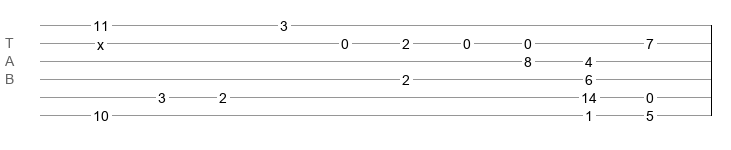0: (341, 36, 349, 46), (463, 36, 471, 46), (524, 36, 532, 46), (646, 90, 654, 100)
1: (585, 108, 593, 118)
10: (93, 108, 109, 118)
11: (93, 18, 109, 28)
14: (581, 90, 597, 100)
2: (219, 90, 227, 100), (402, 36, 410, 46), (402, 72, 410, 82)
3: (158, 90, 166, 100), (280, 18, 288, 28)
4: (585, 54, 593, 64)
5: (646, 108, 654, 118)
6: (585, 72, 593, 82)
7: (646, 36, 654, 46)
8: (524, 54, 532, 64)
x: (97, 37, 104, 45)
